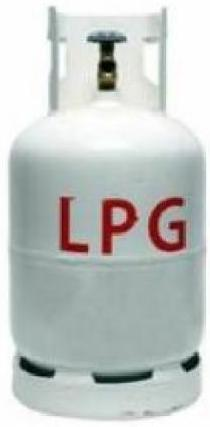cylinder: (1, 1, 210, 427)
